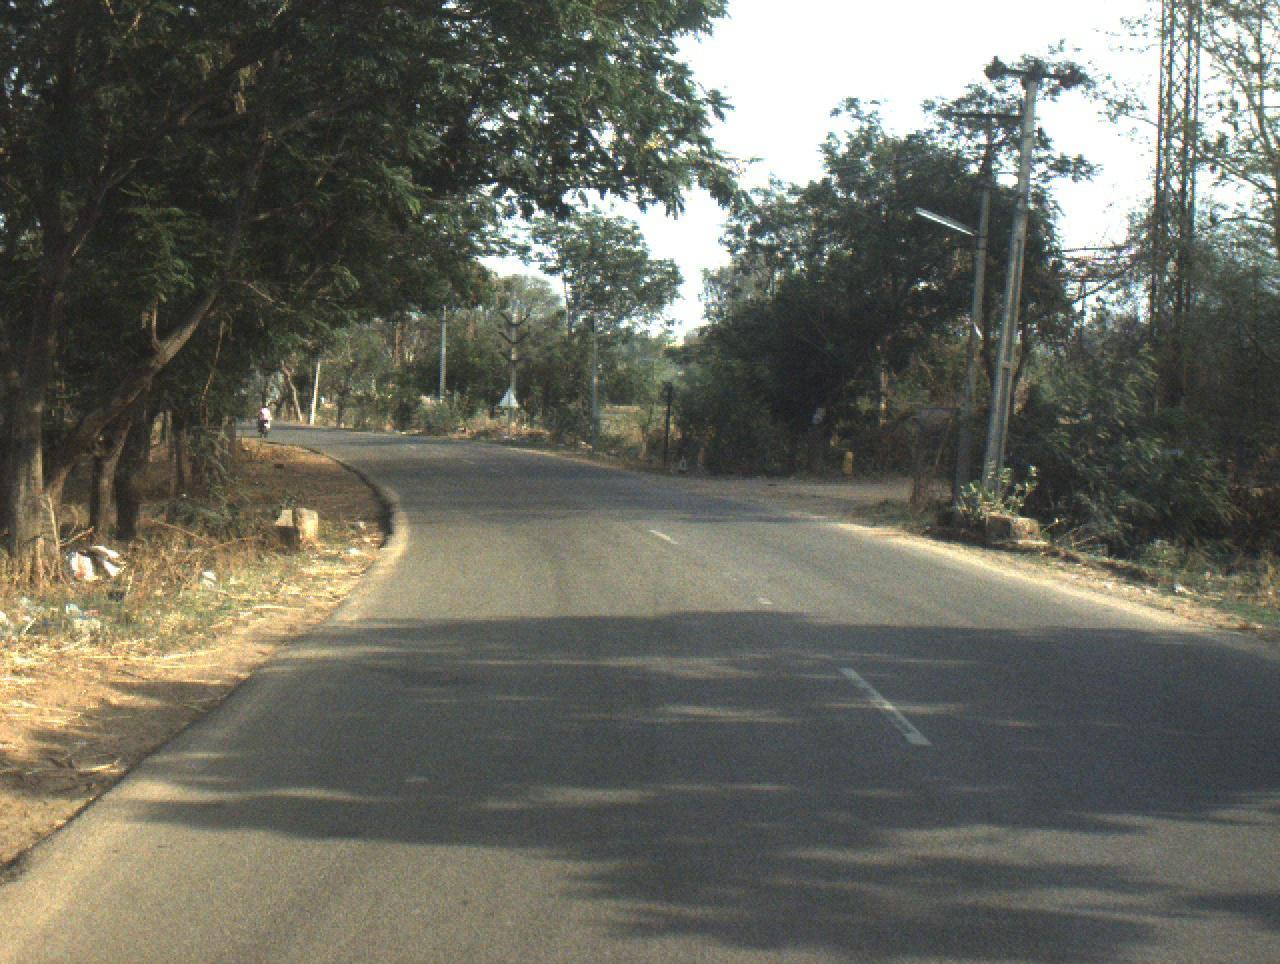off: (100, 36, 1280, 933)
